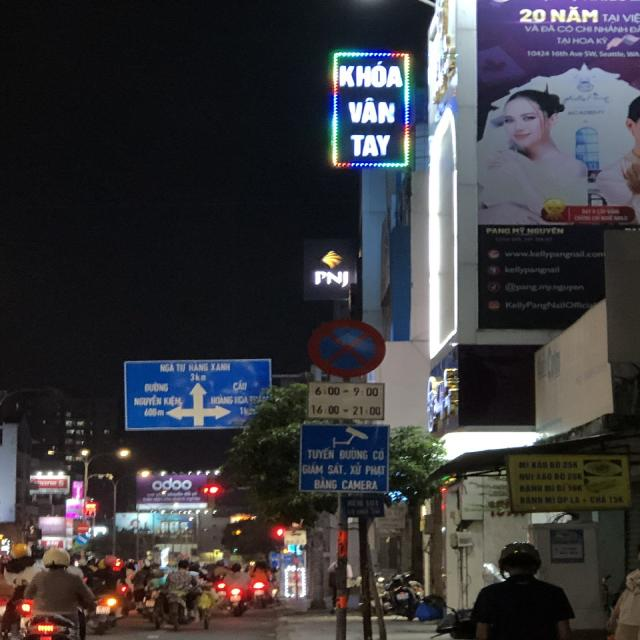Bien bao cam dung xe va do xe: (297, 313, 401, 382)
